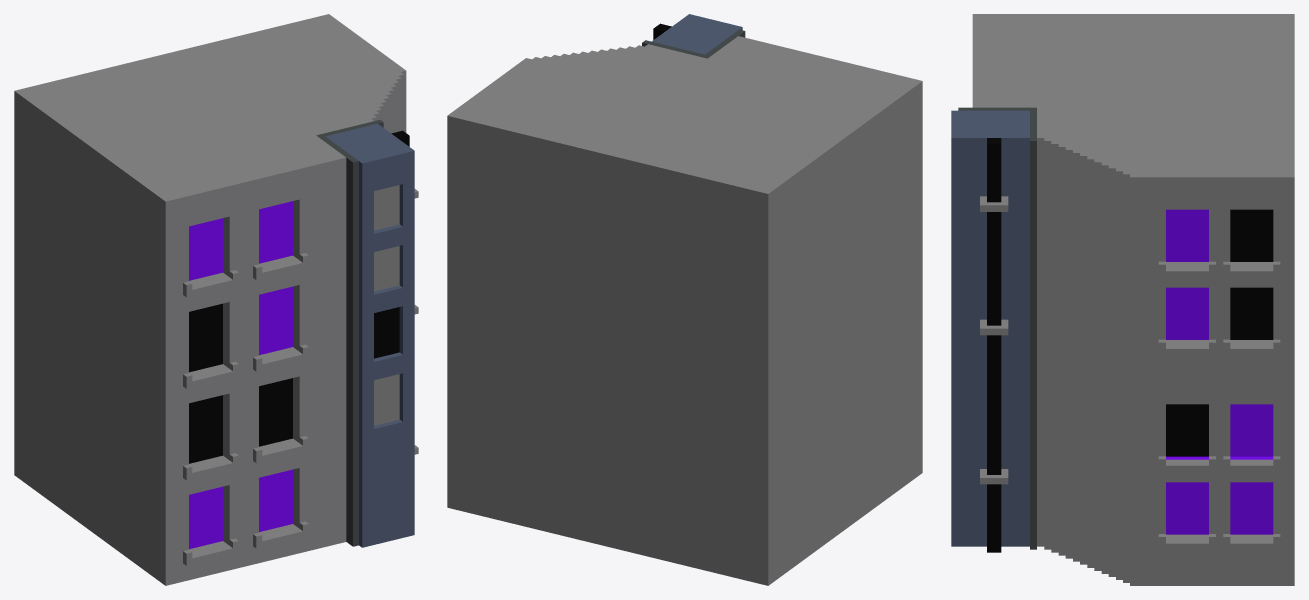
The model's file is Building009(2).obj.
The picture shows the model from 3 angles, left to right: view 1: azimuth 30°, elevation 25°; view 2: azimuth 150°, elevation 25°; view 3: azimuth 270°, elevation 25°; orthographic projection. The views are drawn at different scales.
Bounding box in the file's own units: 5.5 × 6.3 × 4.8.
Materials: 1 (1 with a texture image).
